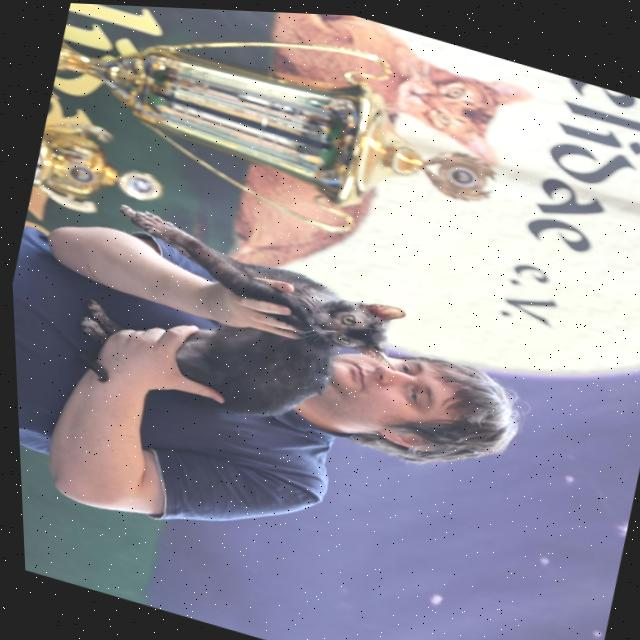Lykoi: (55, 191, 424, 464)
